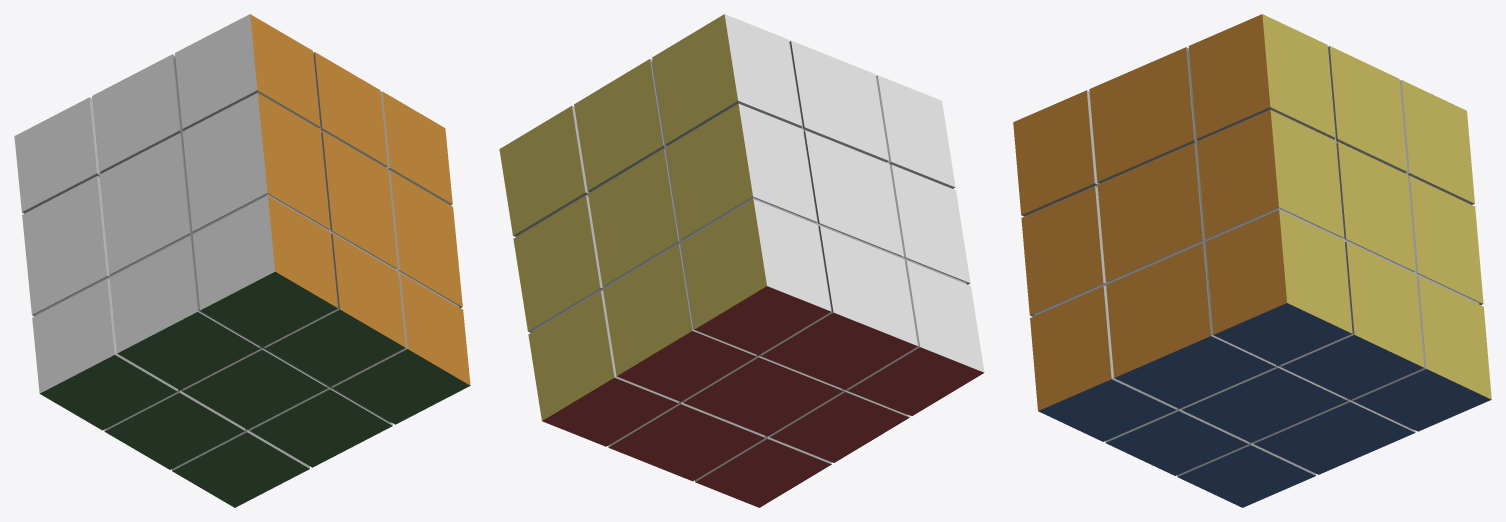
File: RubicsCube.fbx
3 views of the same model, side by side, from view 1: azimuth 30°, elevation 25°; view 2: azimuth 150°, elevation 25°; view 3: azimuth 270°, elevation 25° (orthographic). The views are drawn at different scales.
Visible parts, largest first — view 1: RubicsCube; view 2: RubicsCube; view 3: RubicsCube.
Boxes of the visible parts, left/top/right/bottom form: RubicsCube: left=14, top=14, right=470, bottom=507; RubicsCube: left=499, top=14, right=984, bottom=507; RubicsCube: left=1013, top=14, right=1491, bottom=507.
Size of the model in its own units: 495 by 519 by 444.
